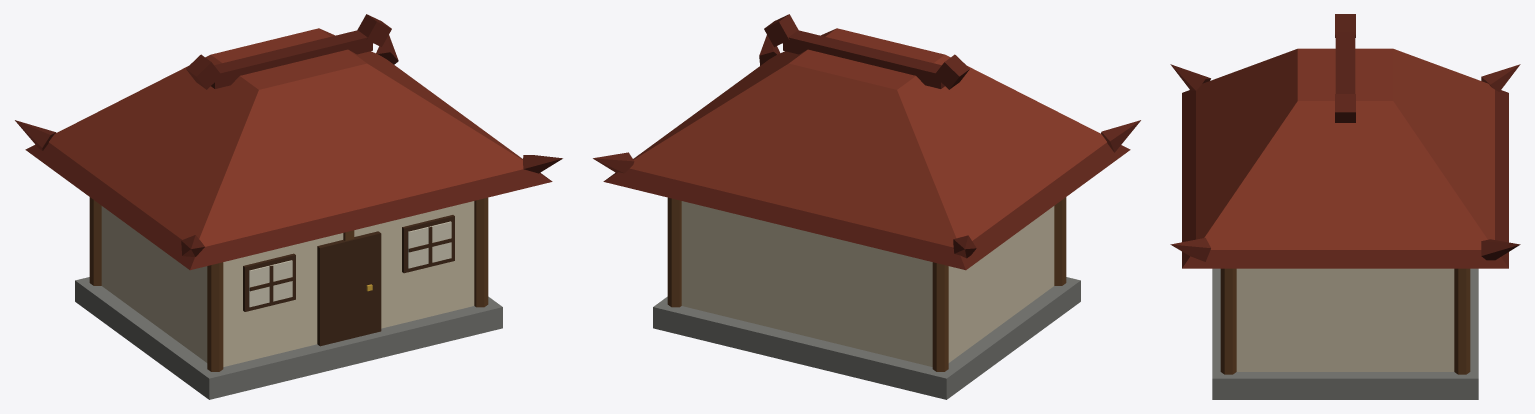
File: SM_GZ_house_ember_0.fbx
The picture shows the model from 3 angles, left to right: view 1: azimuth 30°, elevation 25°; view 2: azimuth 150°, elevation 25°; view 3: azimuth 270°, elevation 25°; orthographic projection.
Visible parts, largest first — view 1: SM_GZ_house_ember_0; view 2: SM_GZ_house_ember_0; view 3: SM_GZ_house_ember_0.
Boxes of the visible parts, <box> form: SM_GZ_house_ember_0: <box>15,14,562,399</box>; SM_GZ_house_ember_0: <box>593,14,1140,399</box>; SM_GZ_house_ember_0: <box>1170,14,1520,399</box>.
Size of the model in its own units: 914 by 649 by 750.
